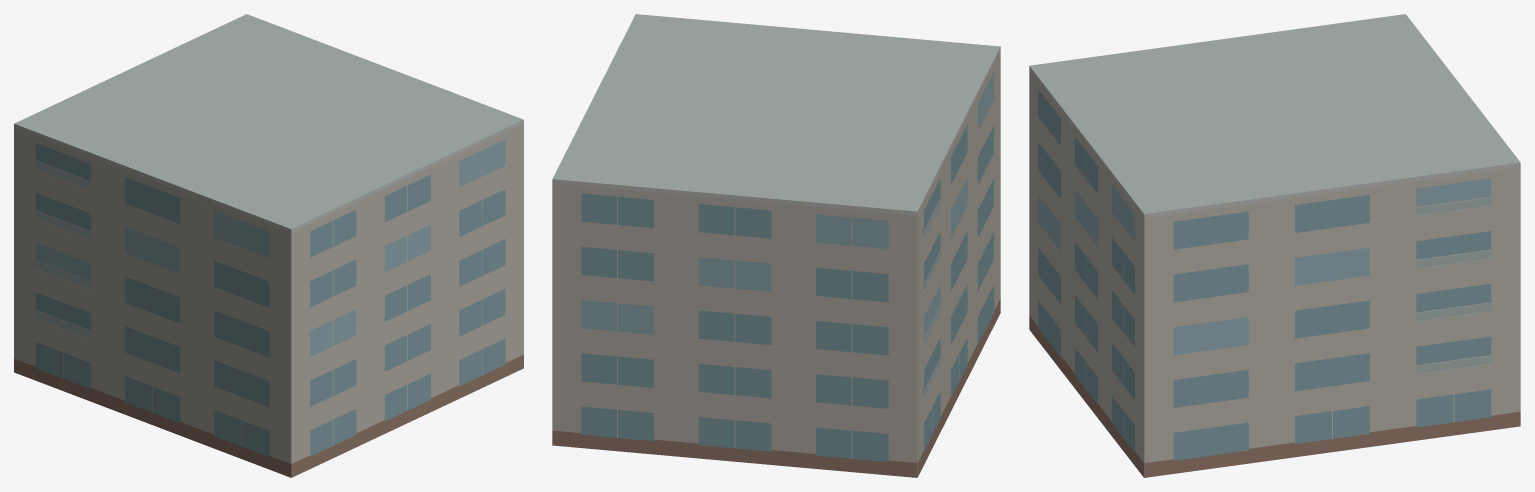
The model's file is survey-upis-32697609.glb.
The picture shows the model from 3 angles, left to right: view 1: azimuth 30°, elevation 25°; view 2: azimuth 150°, elevation 25°; view 3: azimuth 270°, elevation 25°; orthographic projection. The views are drawn at different scales.
Visible parts, largest first — view 1: survey-upis-32697609.tmp; view 2: survey-upis-32697609.tmp; view 3: survey-upis-32697609.tmp.
Boxes of the visible parts, x1,y1,x2,y2 form: survey-upis-32697609.tmp: (14, 14, 523, 477); survey-upis-32697609.tmp: (552, 14, 1000, 477); survey-upis-32697609.tmp: (1029, 14, 1520, 477).
Bounding box in the file's own units: 24.89 × 15.3 × 25.84.
